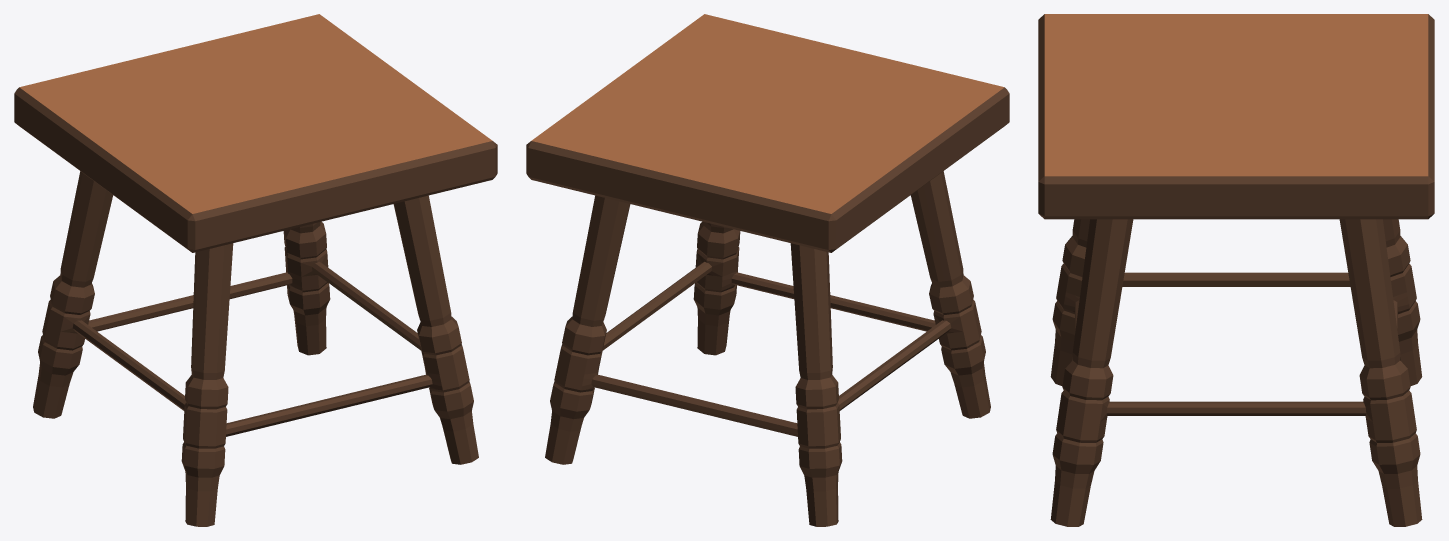
File: 70s.Stool.fbx
The picture shows the model from 3 angles, left to right: view 1: azimuth 30°, elevation 25°; view 2: azimuth 150°, elevation 25°; view 3: azimuth 270°, elevation 25°; orthographic projection. The views are drawn at different scales.
Visible parts, largest first — view 1: 70s.Stool; view 2: 70s.Stool; view 3: 70s.Stool.
Boxes of the visible parts, x1,y1,x2,y2 form: 70s.Stool: [14, 14, 497, 526]; 70s.Stool: [526, 14, 1009, 526]; 70s.Stool: [1038, 14, 1434, 526].
Bounding box in the file's own units: 45 × 45 × 45.
